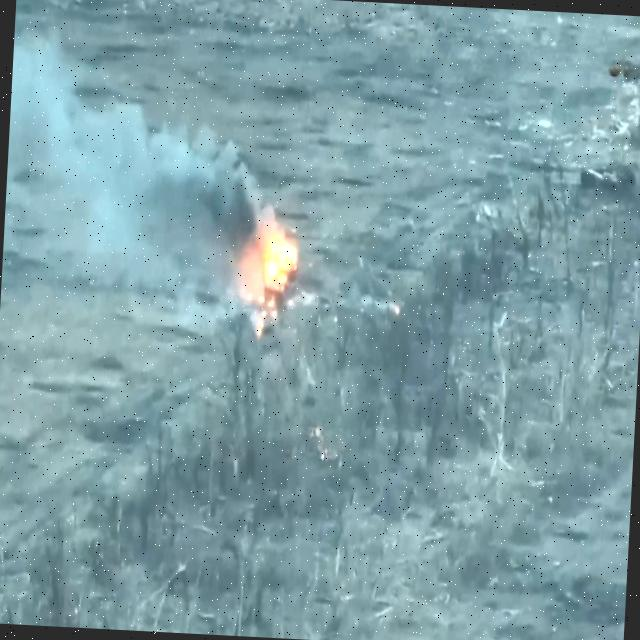Destroyed: (263, 235, 302, 308), (581, 163, 632, 196)
